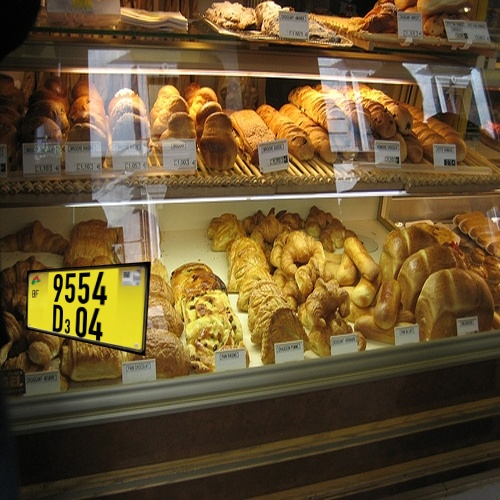plate: (18, 256, 157, 364)
